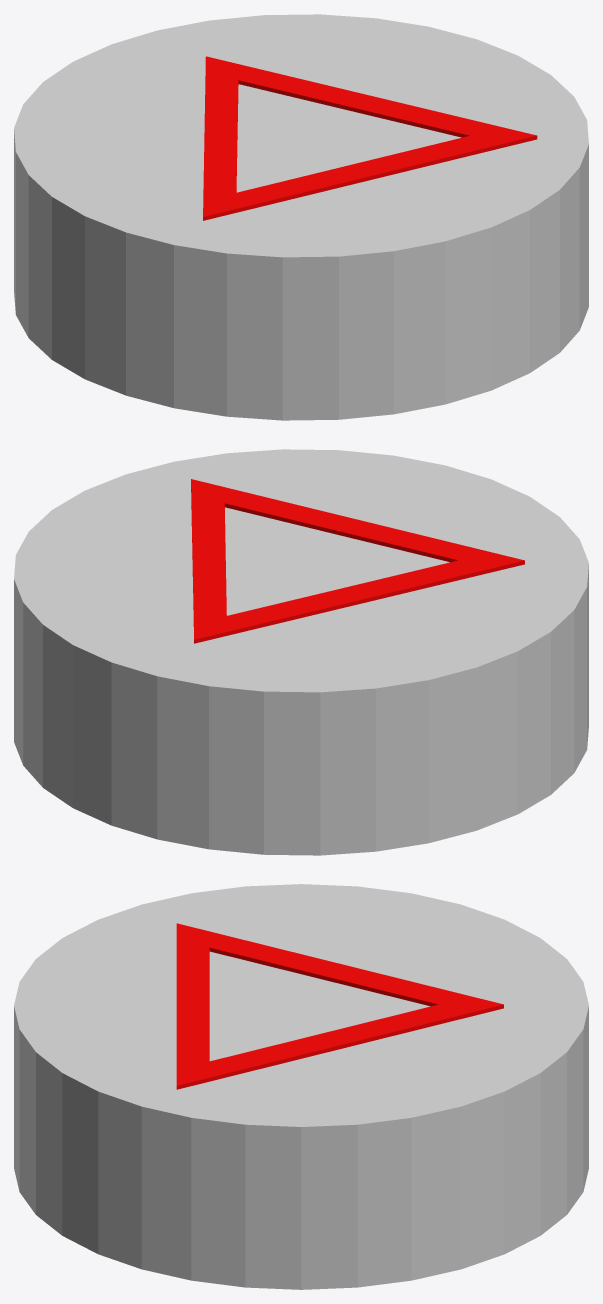
File: Button_triangle_v2.fbx
The picture shows the model from 3 angles, top to bottom: view 1: azimuth 30°, elevation 25°; view 2: azimuth 150°, elevation 25°; view 3: azimuth 270°, elevation 25°; orthographic projection.
Parts seen in each view (by area): view 1: Text; view 2: Text; view 3: Text.
Boxes of the visible parts, box(x1,y1,x2,y2) form: Text: box(14, 14, 588, 420); Text: box(14, 449, 588, 855); Text: box(14, 884, 588, 1289).
Size of the model in its own units: 80 by 25.6 by 80.
